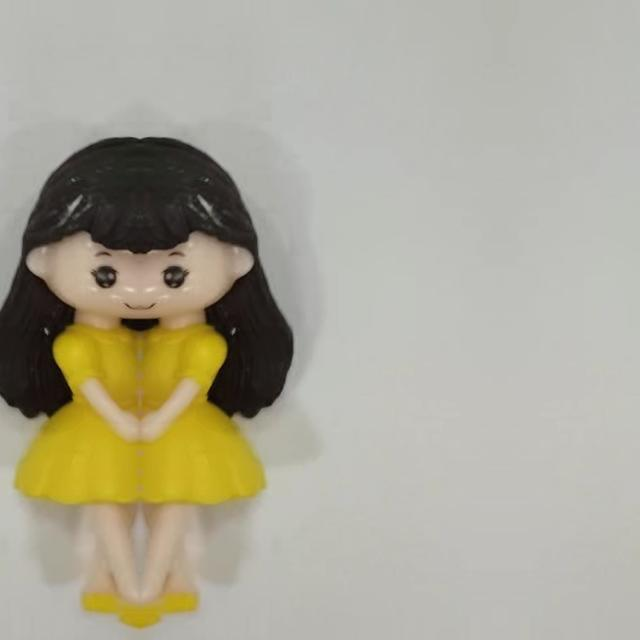woman dress: (140, 314, 254, 598), (26, 314, 140, 598)
